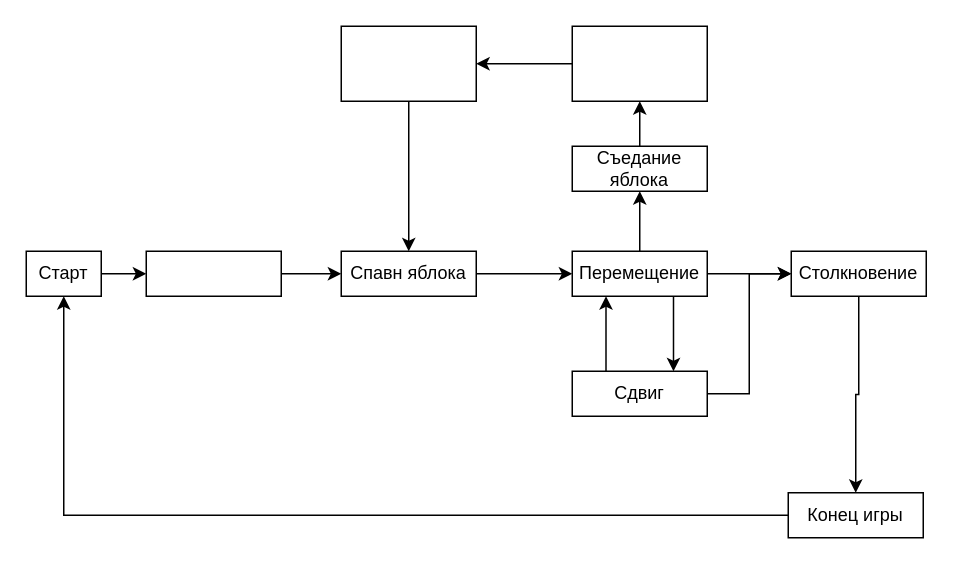
The diagram is 953 pixels wide and 564 high, and some of its shapes have lost their labels. Here are the shapes that lost their labels. From the top down, the box of each, then its label:
(340, 25, 476, 101): Изменение уровня
(571, 25, 707, 101): Изменение количества очков
(145, 250, 281, 296): Спавн змейки
